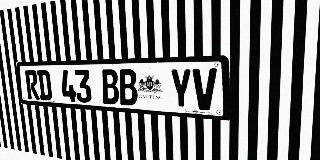3: (74, 70, 92, 103)
4: (60, 70, 77, 102)
B: (118, 69, 138, 106), (101, 69, 120, 105)
D: (37, 70, 52, 101)
R: (25, 70, 40, 100)
V: (192, 68, 217, 111)
Y: (169, 68, 192, 109)
